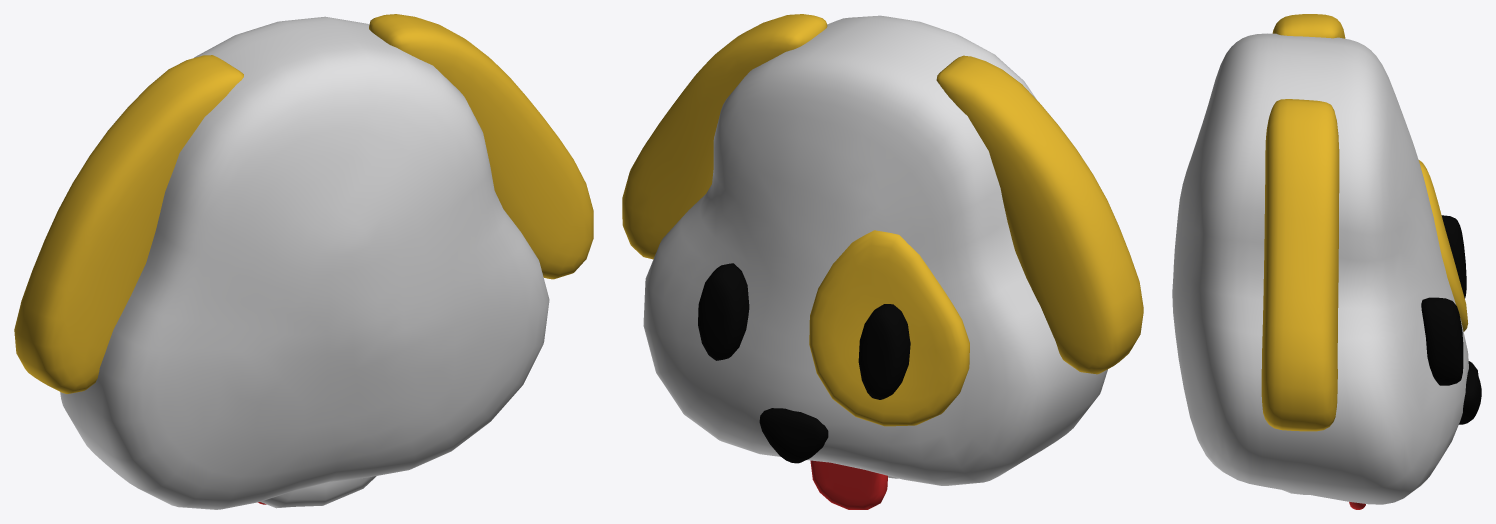
The model's file is dog FBX.glb.
The picture shows the model from 3 angles, left to right: view 1: azimuth 30°, elevation 25°; view 2: azimuth 150°, elevation 25°; view 3: azimuth 270°, elevation 25°; orthographic projection. The views are drawn at different scales.
Parts seen in each view (by area): view 1: Dog2, Dog_1, Dog6; view 2: Dog2, Dog_1, Dog3, dog4, Dog5, Dog7; view 3: Dog2, Dog_1, dog4, Dog3, Dog7.
Boxes of the visible parts, x1,y1,x2,y2 form: Dog2: (60, 16, 549, 509); Dog_1: (14, 14, 593, 393); Dog6: (260, 476, 376, 508); Dog2: (643, 15, 1107, 485); Dog_1: (622, 14, 1143, 374); Dog3: (809, 230, 969, 426); dog4: (698, 263, 910, 399); Dog5: (810, 460, 887, 509); Dog7: (759, 408, 828, 463); Dog2: (1172, 33, 1468, 504); Dog_1: (1261, 14, 1345, 431); dog4: (1421, 215, 1466, 385); Dog3: (1418, 160, 1468, 331); Dog7: (1459, 361, 1481, 424).
Size of the model in its own units: 0.6258 by 0.5318 by 0.3342.
